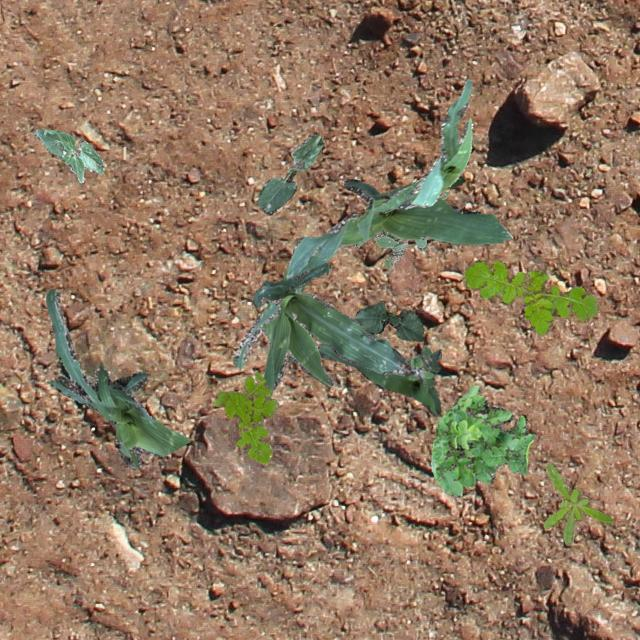crop: (232, 174, 510, 368), (44, 287, 188, 468), (252, 262, 404, 392), (372, 78, 472, 214), (288, 328, 440, 414), (256, 134, 322, 214), (32, 128, 104, 182), (352, 300, 422, 340)
weed: (429, 384, 534, 496), (462, 258, 598, 334), (351, 192, 447, 268), (212, 371, 278, 464), (542, 462, 614, 544), (390, 346, 440, 386)
